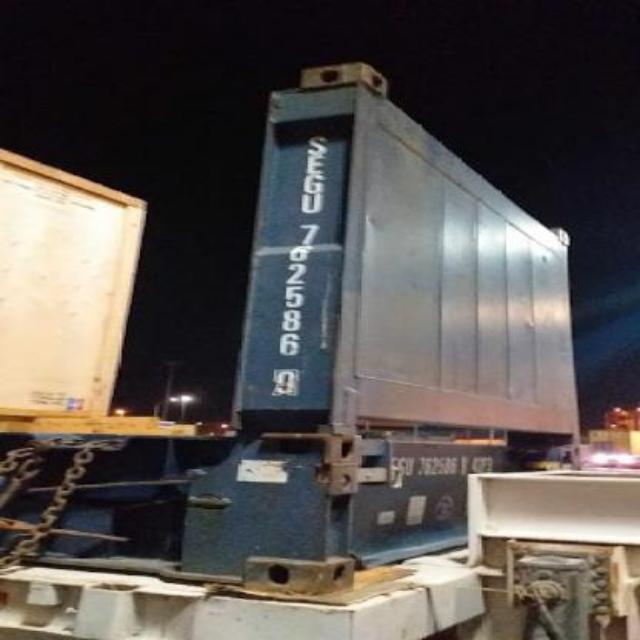0: (262, 364, 310, 396)
2: (274, 260, 314, 286)
5: (274, 286, 314, 308)
6: (280, 245, 326, 261), (280, 332, 302, 358)
7: (282, 218, 330, 244)
8: (272, 306, 306, 332)
E: (302, 152, 334, 174)
G: (290, 173, 334, 194)
S: (302, 132, 330, 156)
U: (284, 194, 330, 216)
